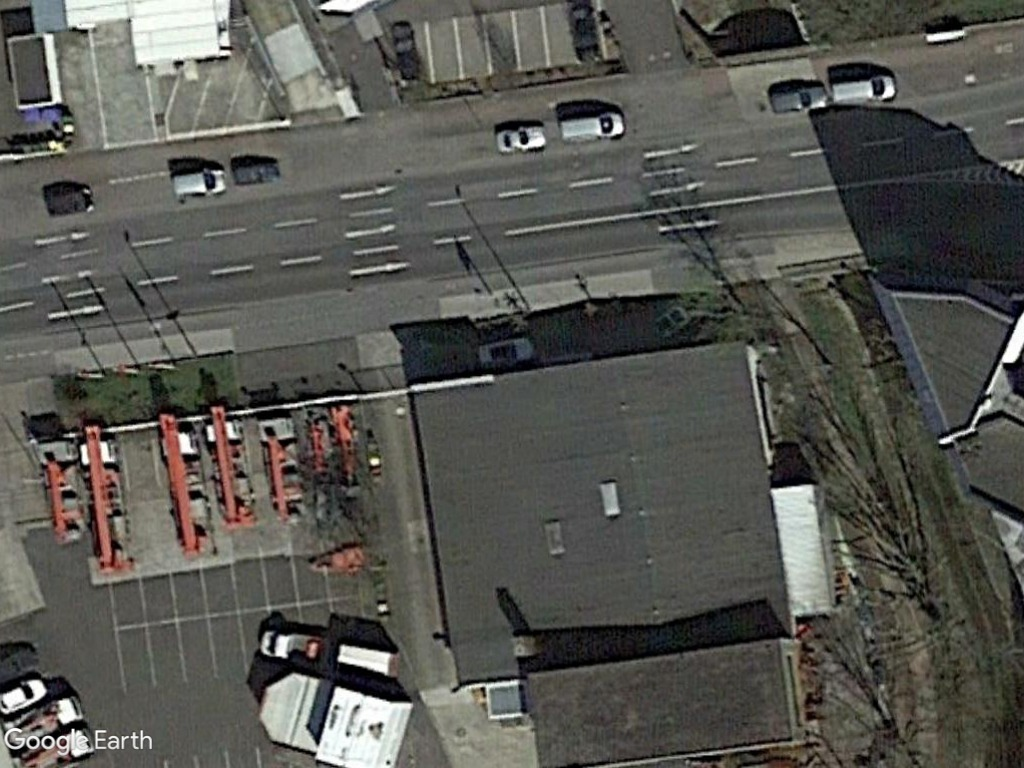van: (553, 108, 627, 147), (827, 72, 901, 106), (166, 165, 230, 201), (768, 82, 831, 113)
